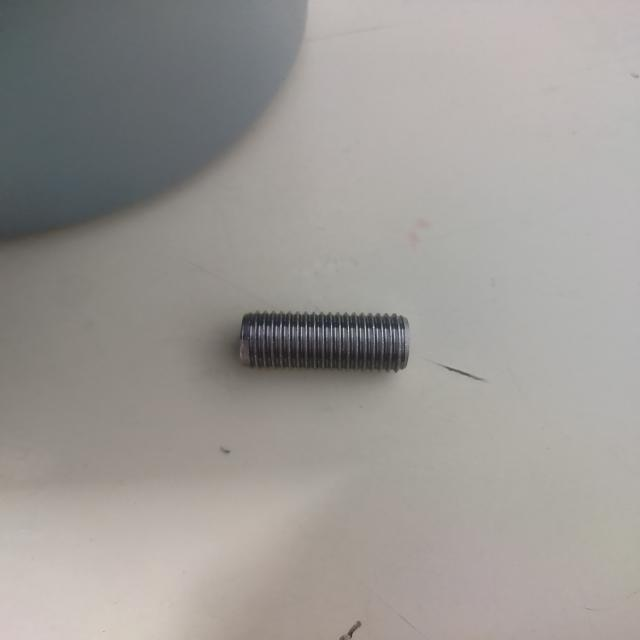Normal: (239, 310, 410, 374)
